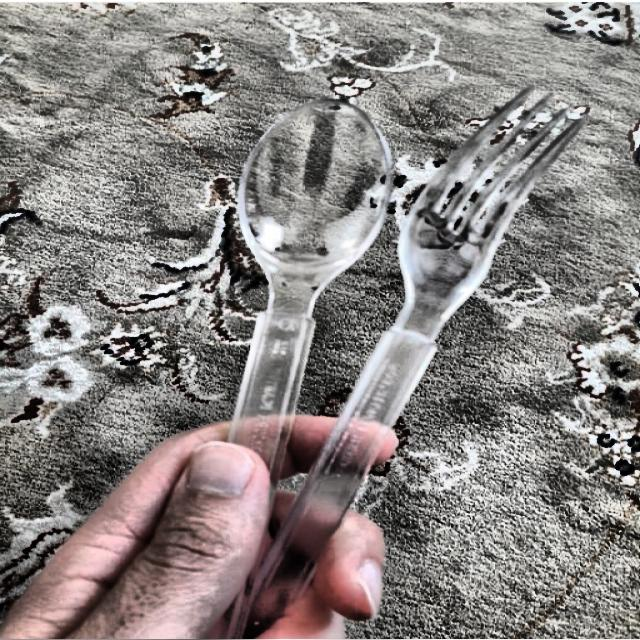plastic utensil: (231, 102, 387, 487)
